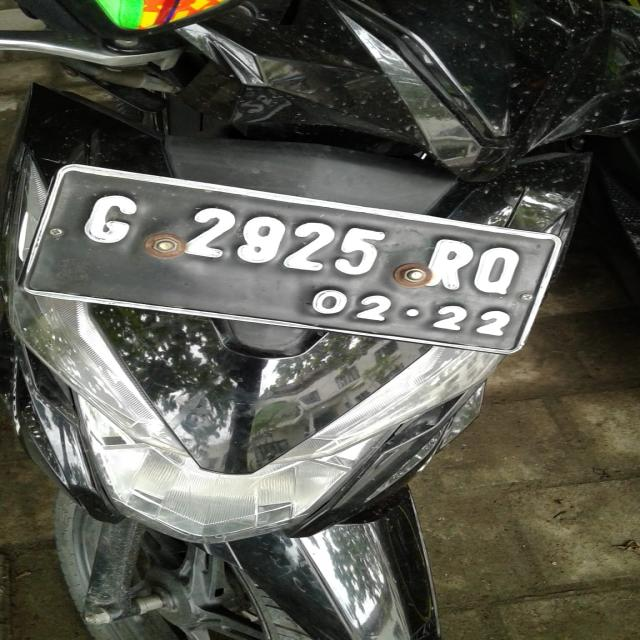plate: (34, 165, 542, 349)
